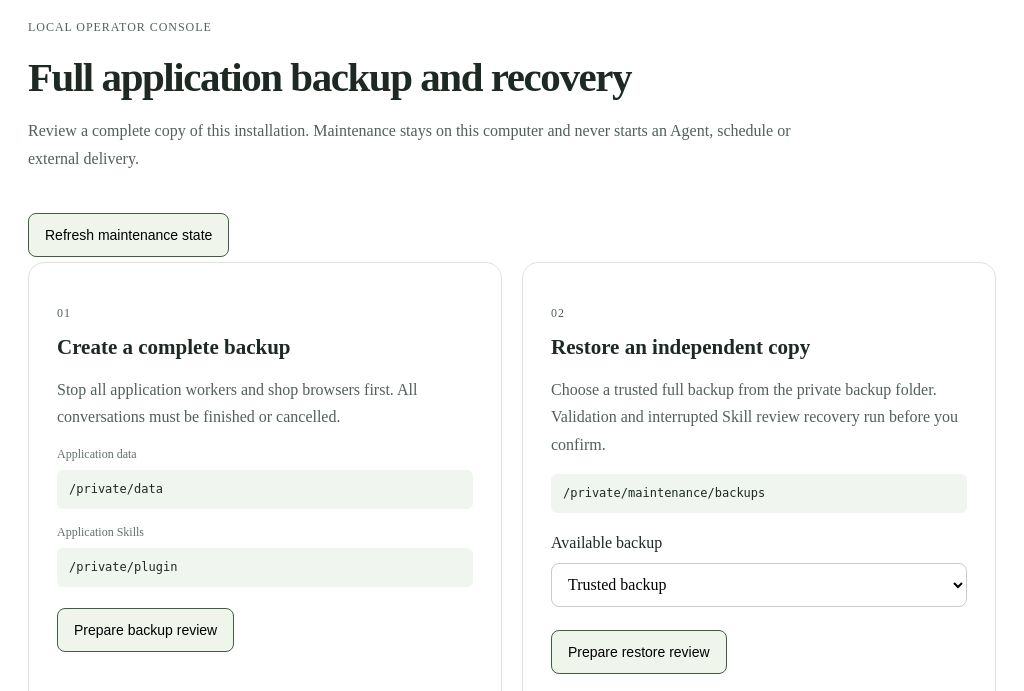
Test: prepares a reviewed complete copy and requires acknowledgement before a single publication
The image size is (1024, 691).
Step 1. Click the button "Prepare backup review" → (146, 630), box [57,608,234,652]
(page scrolled)
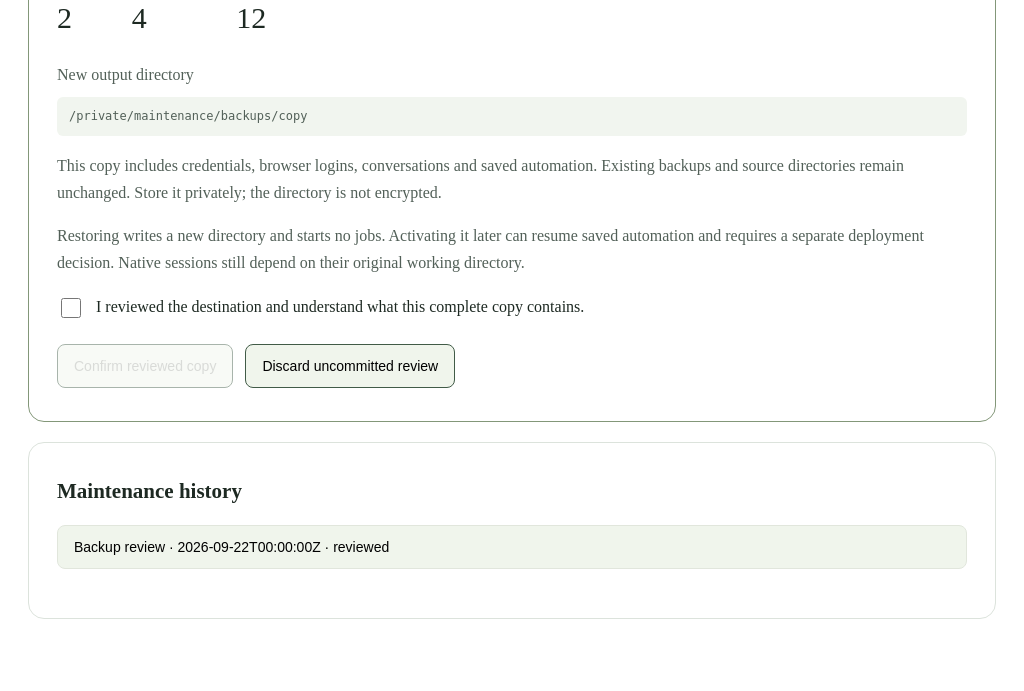
Now the button "Confirm reviewed copy" is disabled, box [57,344,233,388]
Now the text "includes credentials, browser logins" is shown, box [57,157,904,201]
Step 2. Click the checkbox → (71, 308), box [61,298,81,318]
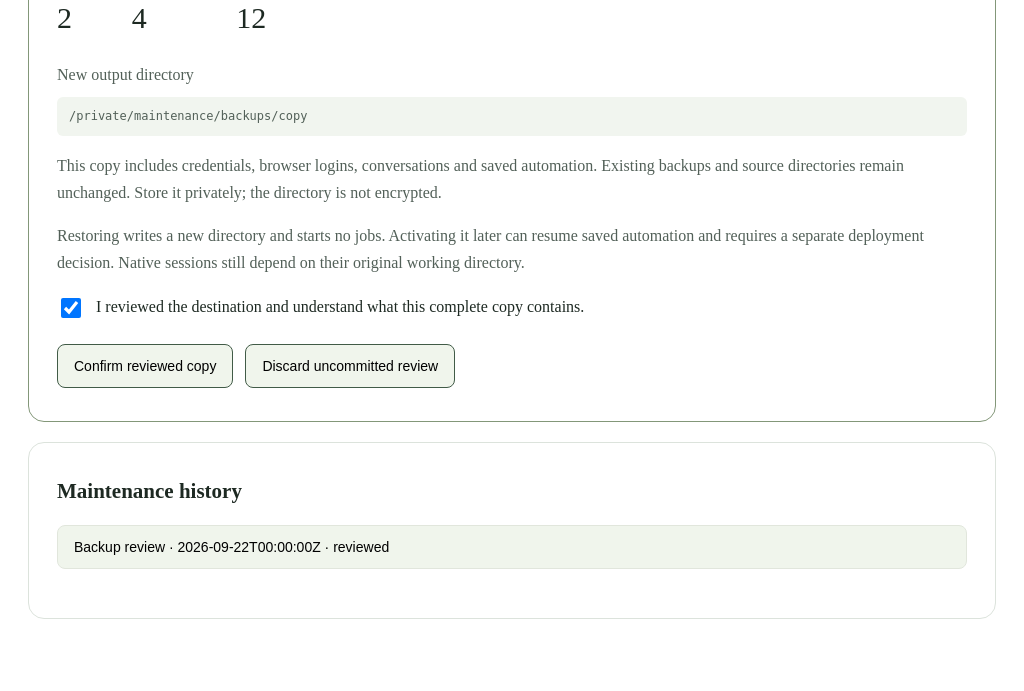
Step 3. Click the button "Confirm reviewed copy" → (145, 366), box [57,344,233,388]
(page scrolled)
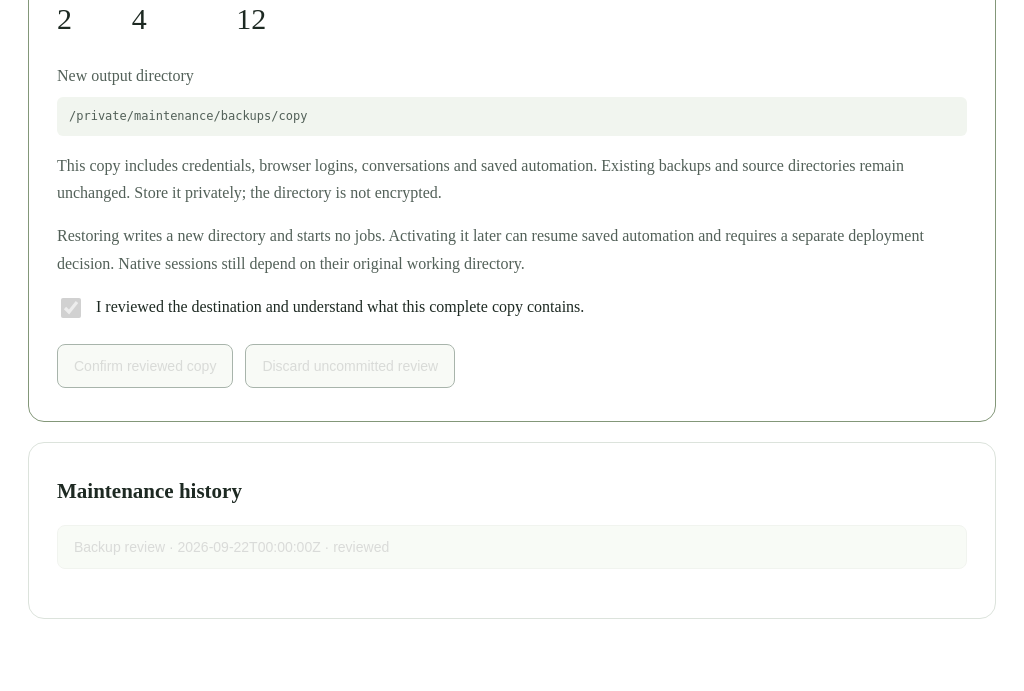
Step 4. Click the button "Confirm reviewed copy" → (145, 366), box [57,344,233,388]
(page scrolled)
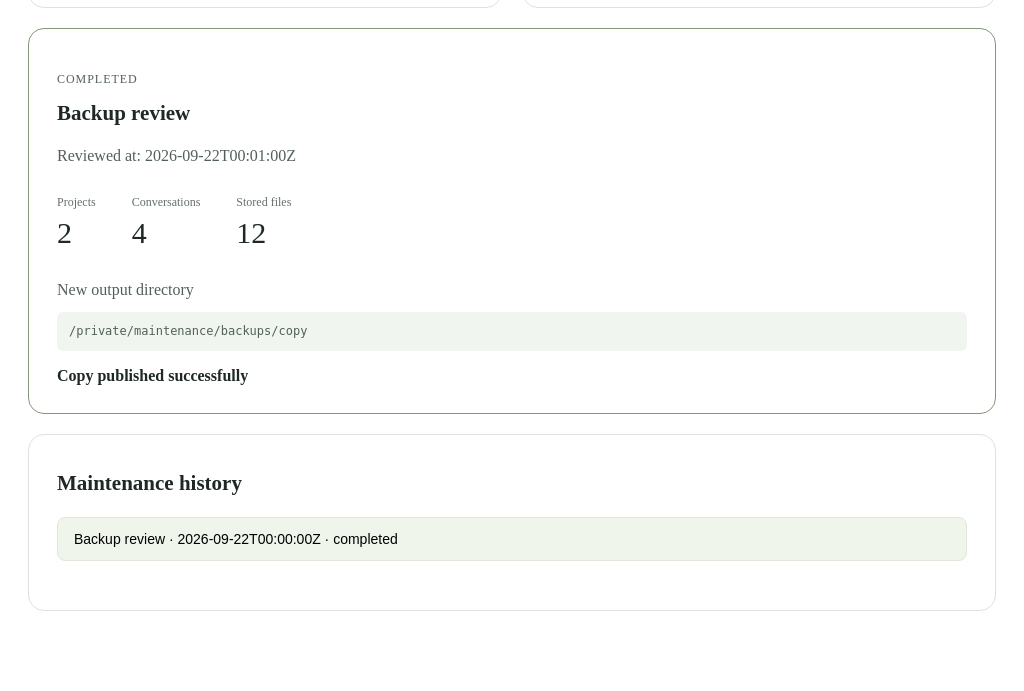
Now the text "Copy published successfully" is shown, box [57,367,248,384]
Now the checkbox is gone
